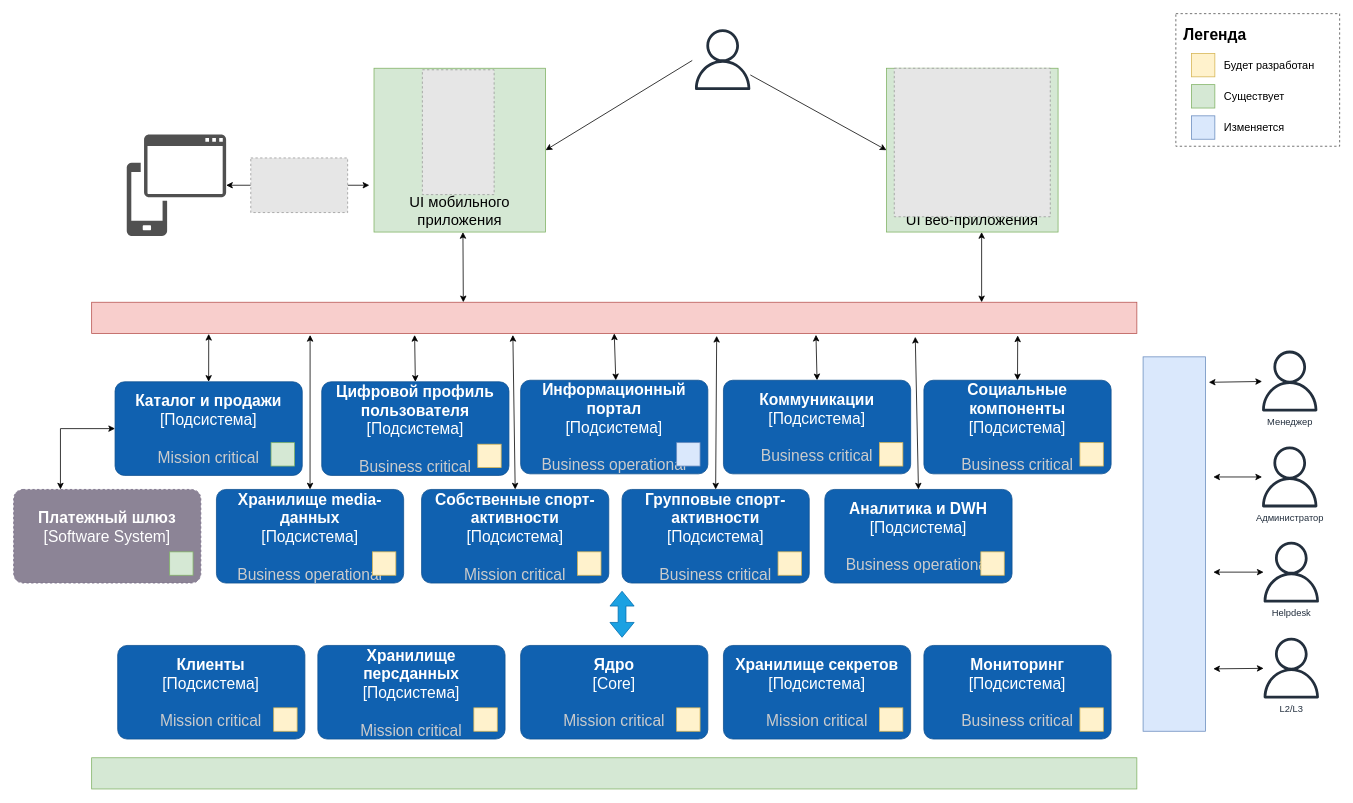
Image size: 1353x803. Some labels were removed from this diagram. Grey dashed boxes stand in for pictures. Here are the shapes that lost their labels. From the top down, the centre of each, then its label:
the point at 722,59: Пользователи
the point at 176,185: Периферийные устройства и гаджеты
the point at 614,317: IdP + API Gateway
the point at 1173,543: UI
the point at 614,773: Облачная инфраструктура
